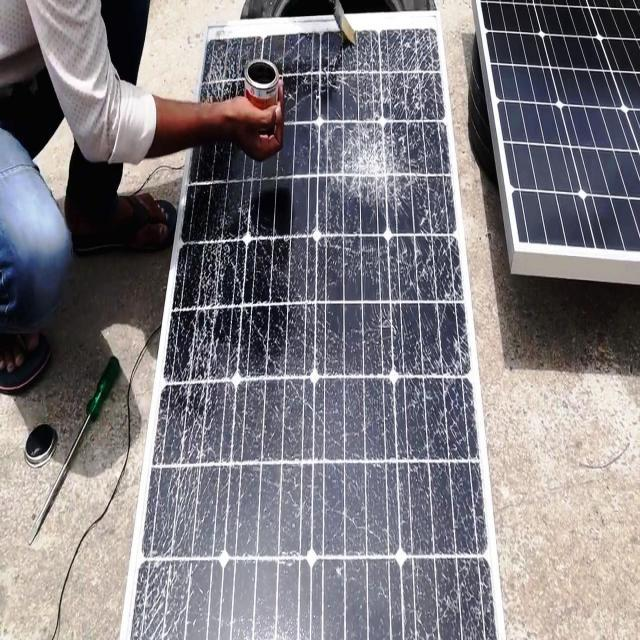faulty: (137, 26, 502, 640)
no faulty: (466, 0, 638, 272)
